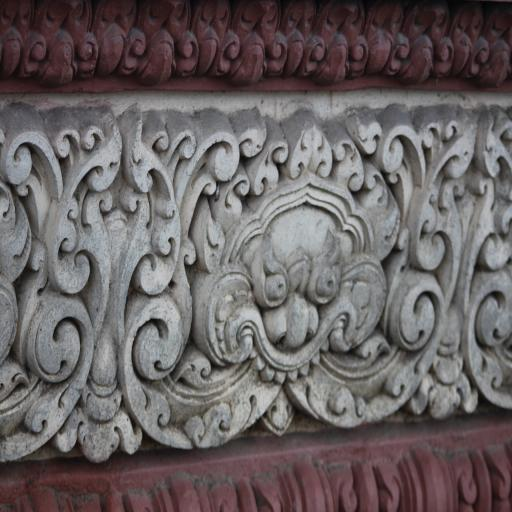la: (25, 0, 101, 80), (103, 0, 175, 77), (296, 3, 364, 76), (232, 4, 290, 78), (395, 0, 447, 79), (176, 5, 234, 75), (438, 5, 496, 74), (362, 5, 407, 75)
